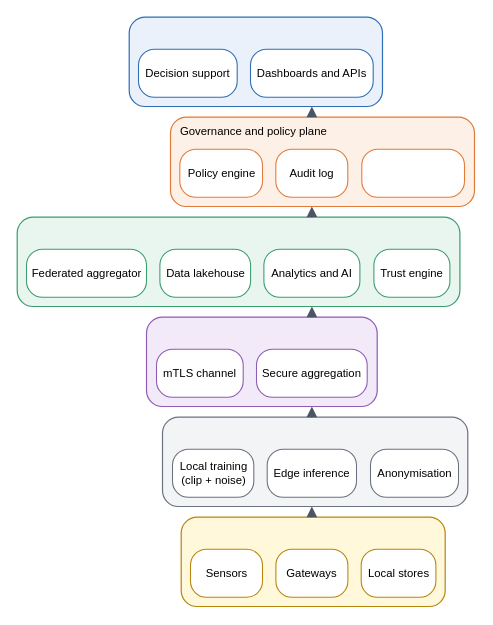
Some shapes in this 493 by 625 pixel diagram are drawn without their labels. The box of each missing label's shape, as (x1, y1, x2, y2) in pixels:
Cloud intelligence: (16, 216, 460, 307)
Consent / erasure: (361, 148, 465, 197)
Data acquisition: (180, 516, 445, 607)
Decision and application layer: (128, 16, 383, 107)
Edge intelligence: (161, 416, 468, 507)
Secure communication: (145, 316, 377, 407)
